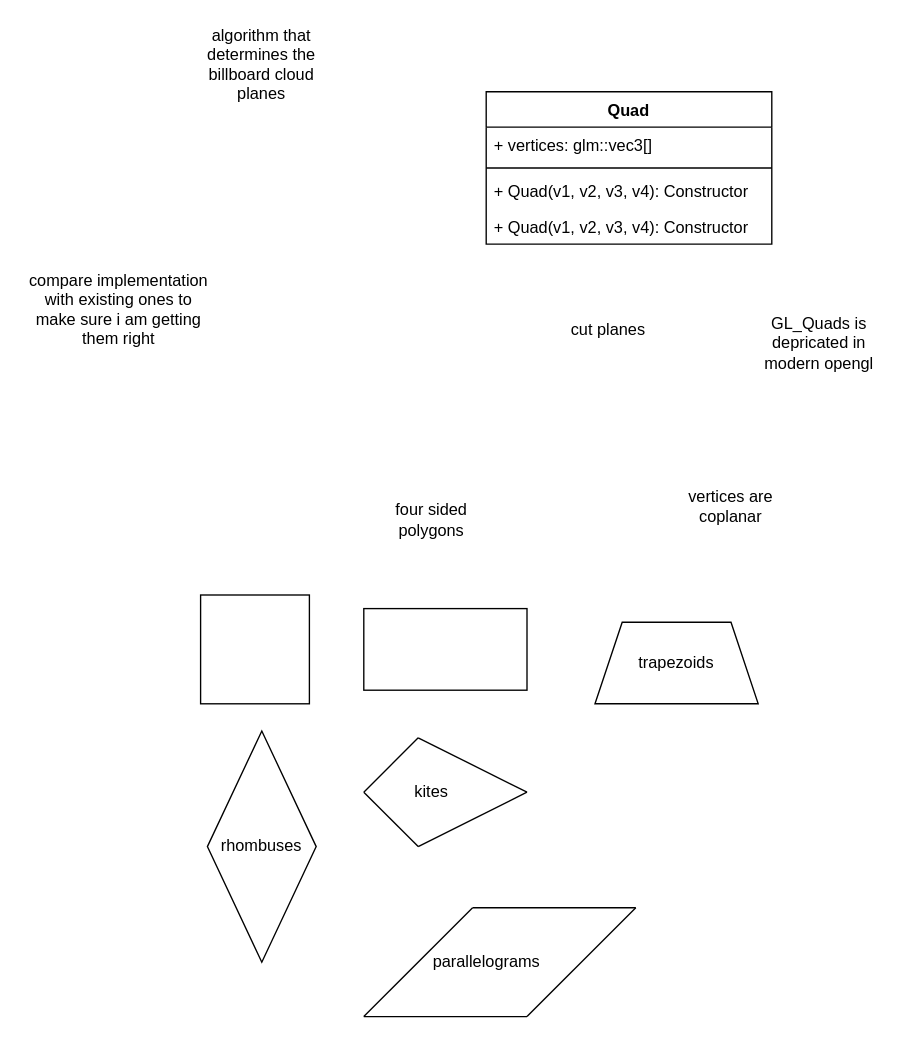
This 903x1042 diagram has some shape labels left out. Here are the shapes that lost their labels. From the top down, the centre of each, then its label:
the point at 254,649: squares
the point at 444,648: rectangles
